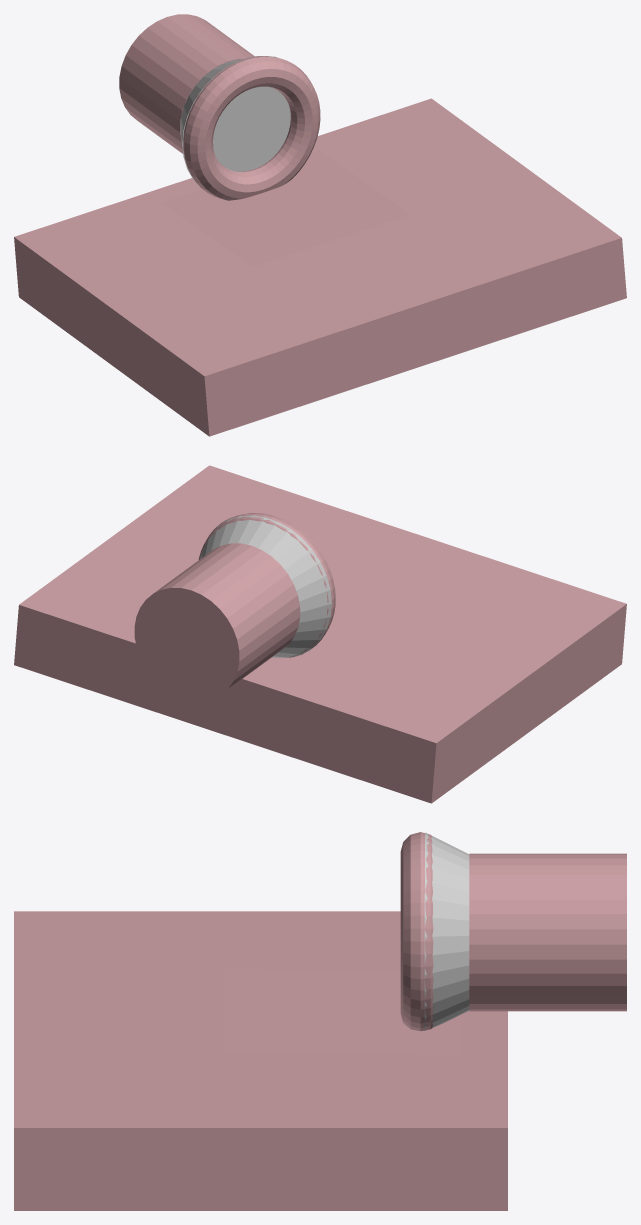
File: hoop-test.obj
3 views of the same model, one above another, from view 1: azimuth 30°, elevation 25°; view 2: azimuth 150°, elevation 25°; view 3: azimuth 270°, elevation 25° (orthographic). The views are drawn at different scales.
Parts seen in each view (by area): view 1: Cube, Plane, Torus, Cylinder, Cone; view 2: Cube, Cylinder, Cone, Plane, Torus; view 3: Cube, Cylinder, Plane, Cone, Torus.
Part boxes in pixels (bbox=[...]): Cube: bbox=[14, 98, 626, 436]; Plane: bbox=[161, 150, 410, 266]; Torus: bbox=[182, 56, 320, 200]; Cylinder: bbox=[119, 14, 254, 153]; Cone: bbox=[180, 56, 290, 185]; Cube: bbox=[14, 465, 626, 803]; Cylinder: bbox=[134, 543, 300, 700]; Cone: bbox=[199, 515, 331, 657]; Plane: bbox=[264, 586, 416, 682]; Torus: bbox=[198, 513, 335, 657]; Cube: bbox=[14, 911, 507, 1210]; Cylinder: bbox=[469, 853, 626, 1011]; Plane: bbox=[224, 969, 461, 1054]; Cone: bbox=[424, 832, 469, 1030]; Torus: bbox=[400, 832, 433, 1031].
Size of the model in its own units: 7.86 by 3.82 by 7.61.
Materials: 1 (1 with a texture image).
